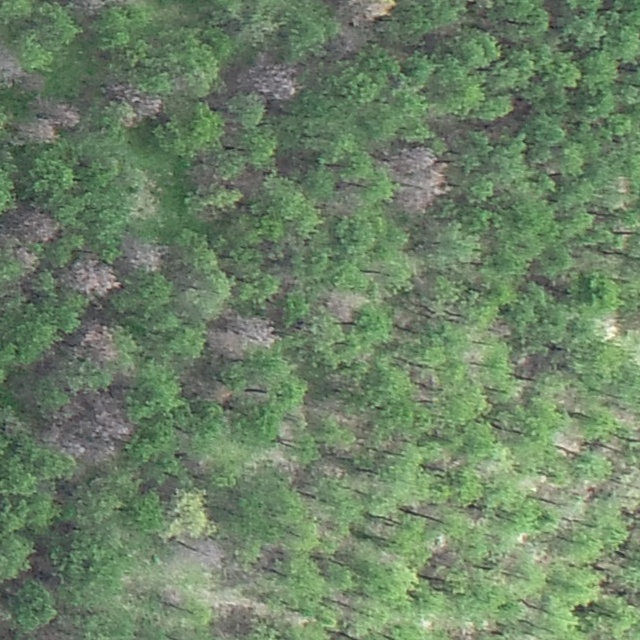unhealthy: (38, 391, 134, 461), (388, 146, 448, 213), (249, 55, 301, 100), (103, 81, 161, 121), (65, 255, 121, 296), (225, 310, 277, 347), (80, 320, 119, 363), (330, 0, 398, 24), (16, 207, 62, 241), (122, 236, 166, 271), (323, 288, 364, 323), (188, 536, 228, 568), (207, 328, 244, 360), (17, 116, 58, 143), (0, 50, 27, 90), (38, 101, 80, 126), (331, 27, 365, 57), (71, 0, 108, 18), (13, 246, 40, 269), (159, 586, 185, 609), (490, 318, 513, 337)
